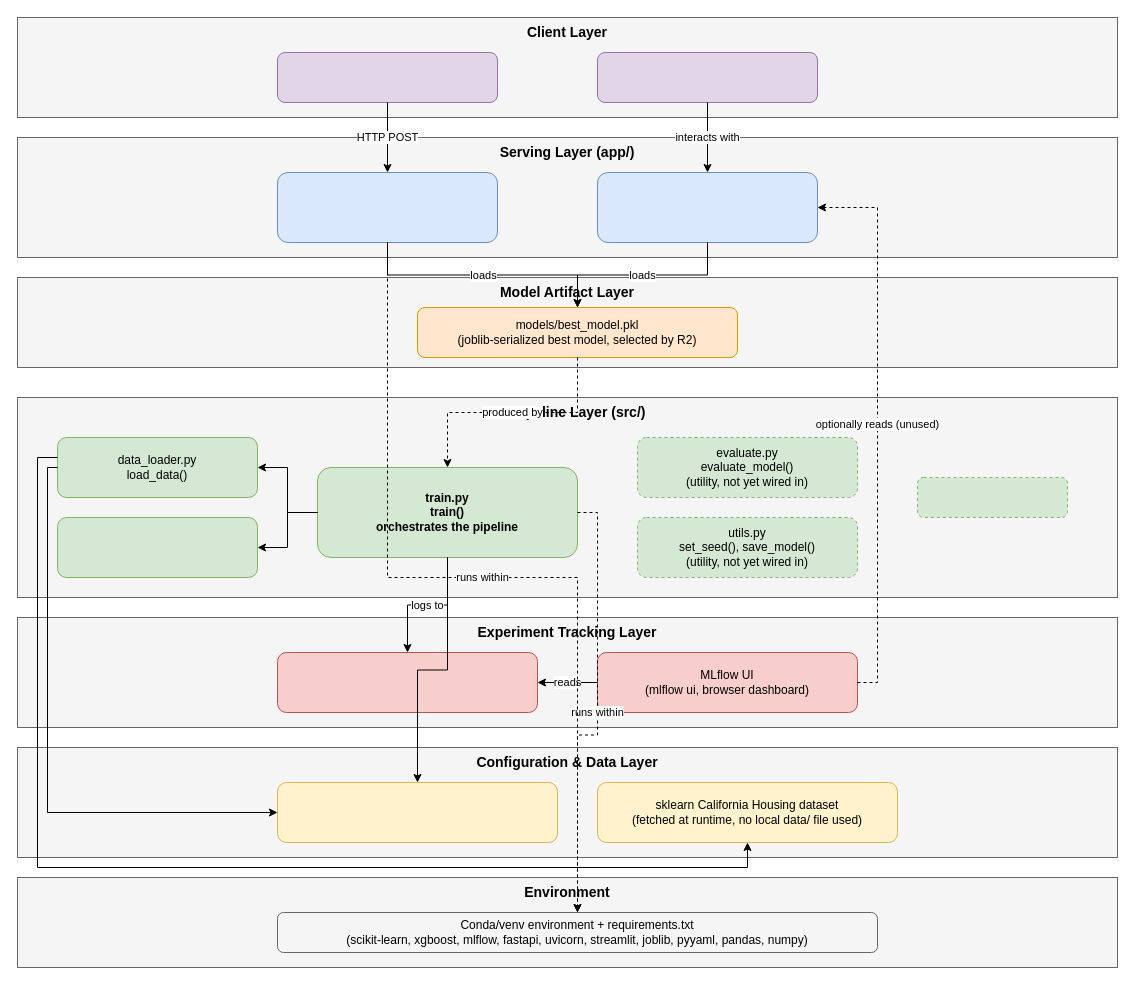
This 1135x985 diagram has some shape labels left out. Here are the shapes that lost their labels. From the top down, the centre of each, then its label:
At (387,77): "Browser / curl client".
At (707,77): "End user (Streamlit UI)".
At (387,207): "app/api.py FastAPI service POST /predict (uvicorn, port 8000)".
At (707,207): "app/streamlit_app.py Streamlit web UI (sliders → prediction)".
At (992,497): "__init__.py".
At (157,547): "models.py get_model()".
At (407,682): "MLflow Tracking Server (backing store: mlflow.db / mlruns)".
At (417,812): "config/params.yaml experiment_name, seed, test_size, model params".
